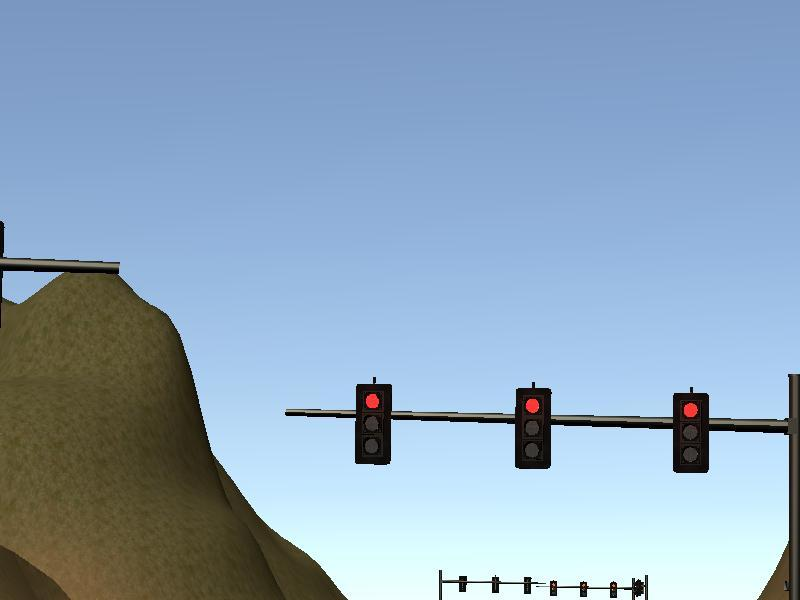Red: (673, 392, 708, 473), (356, 383, 390, 466), (516, 387, 550, 470), (608, 580, 617, 599), (579, 580, 587, 598), (550, 580, 557, 597)
